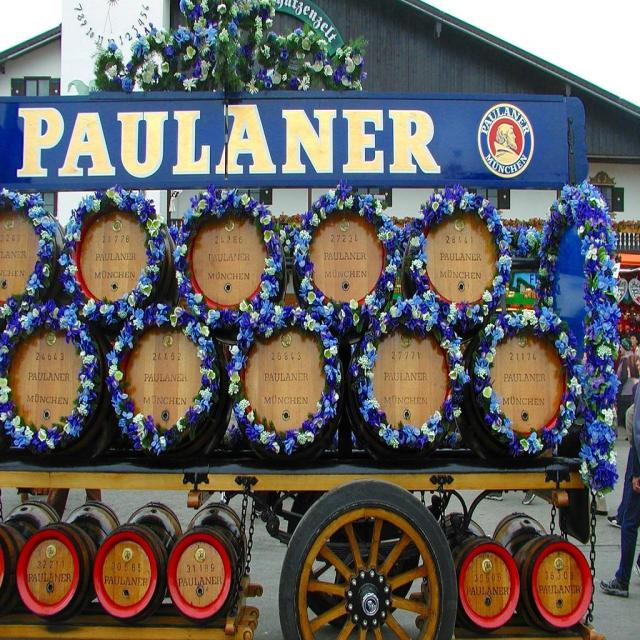paulaner: (478, 103, 536, 179)
